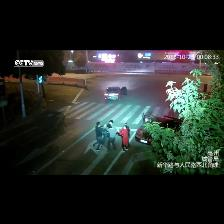person: (93, 123, 104, 150), (107, 124, 118, 151), (119, 125, 129, 152)
